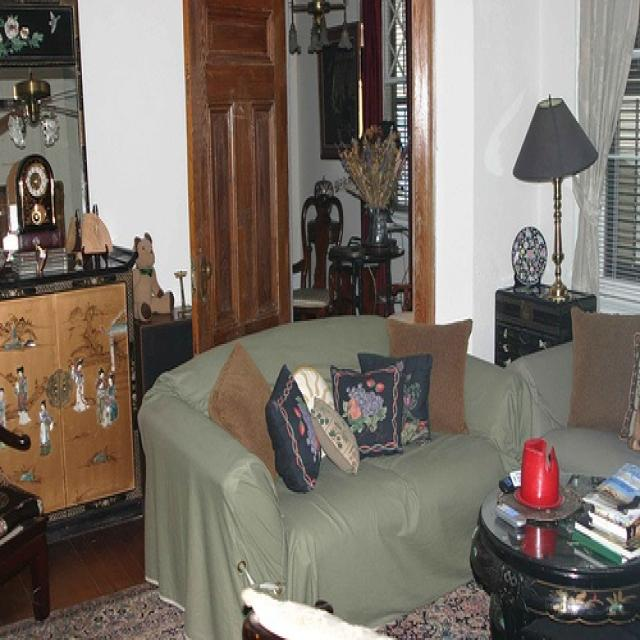chair: (290, 192, 344, 321)
sofa: (133, 310, 536, 638)
